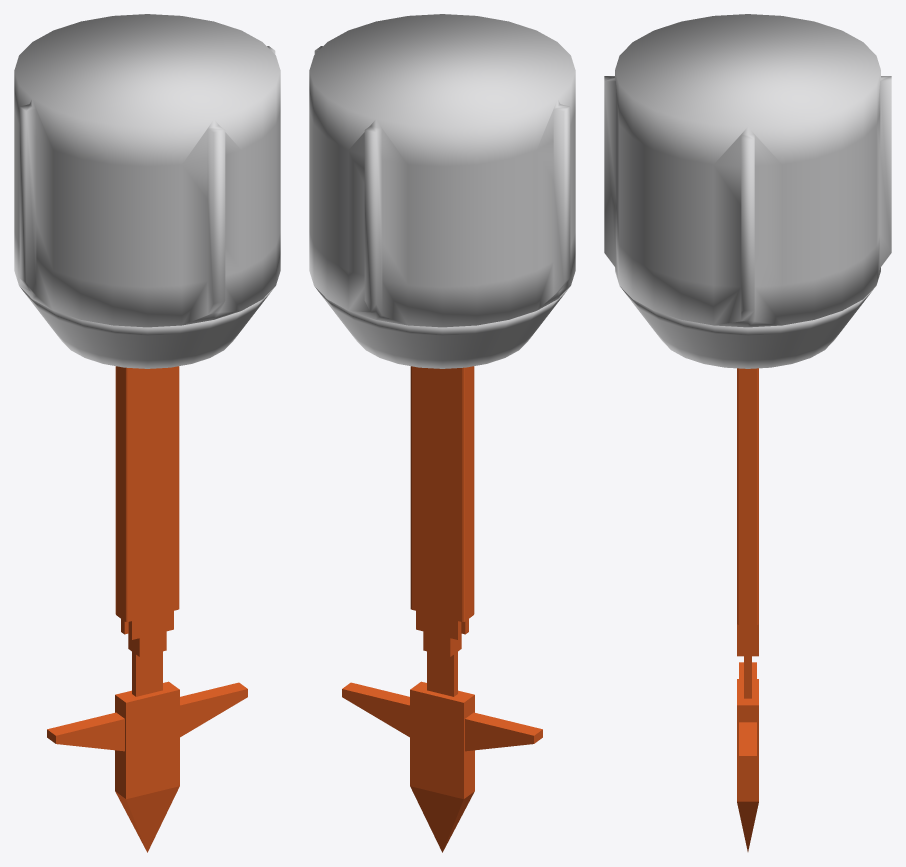
3 views of the same model, side by side, from view 1: azimuth 30°, elevation 25°; view 2: azimuth 150°, elevation 25°; view 3: azimuth 270°, elevation 25° (orthographic).
Parts seen in each view (by area): view 1: Cylinder001, Box001; view 2: Cylinder001, Box001; view 3: Cylinder001, Box001.
Boxes of the visible parts, <box> form: Cylinder001: <box>14,14,280,368</box>; Box001: <box>47,366,247,852</box>; Cylinder001: <box>309,14,575,368</box>; Box001: <box>342,366,542,852</box>; Cylinder001: <box>604,14,891,368</box>; Box001: <box>737,368,758,851</box>.
Size of the model in its own units: 25.54 by 76.67 by 25.54.
